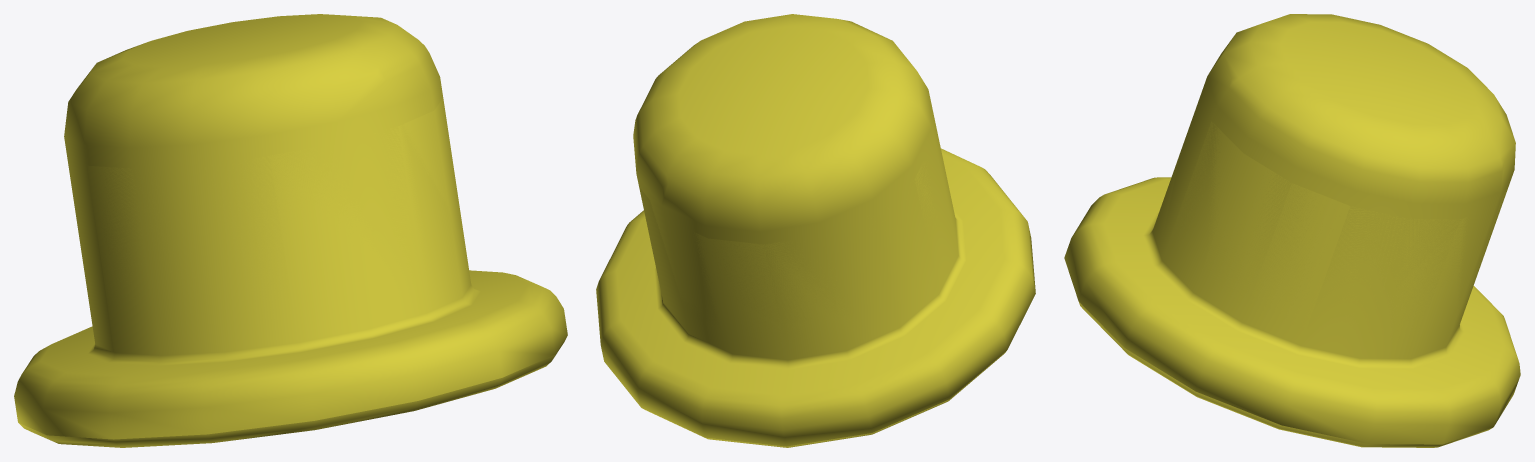
The model's file is hat.fbx.
3 views of the same model, side by side, from view 1: azimuth 30°, elevation 25°; view 2: azimuth 150°, elevation 25°; view 3: azimuth 270°, elevation 25° (orthographic). The views are drawn at different scales.
Parts seen in each view (by area): view 1: Mesh_0136_Mesh_0136Mesh.002; view 2: Mesh_0136_Mesh_0136Mesh.002; view 3: Mesh_0136_Mesh_0136Mesh.002.
Part boxes in pixels (x1,y1,x2,y2): Mesh_0136_Mesh_0136Mesh.002: (14,14,567,447); Mesh_0136_Mesh_0136Mesh.002: (596,14,1035,447); Mesh_0136_Mesh_0136Mesh.002: (1064,14,1520,447).
Size of the model in its own units: 0.3346 by 0.3236 by 0.277.
